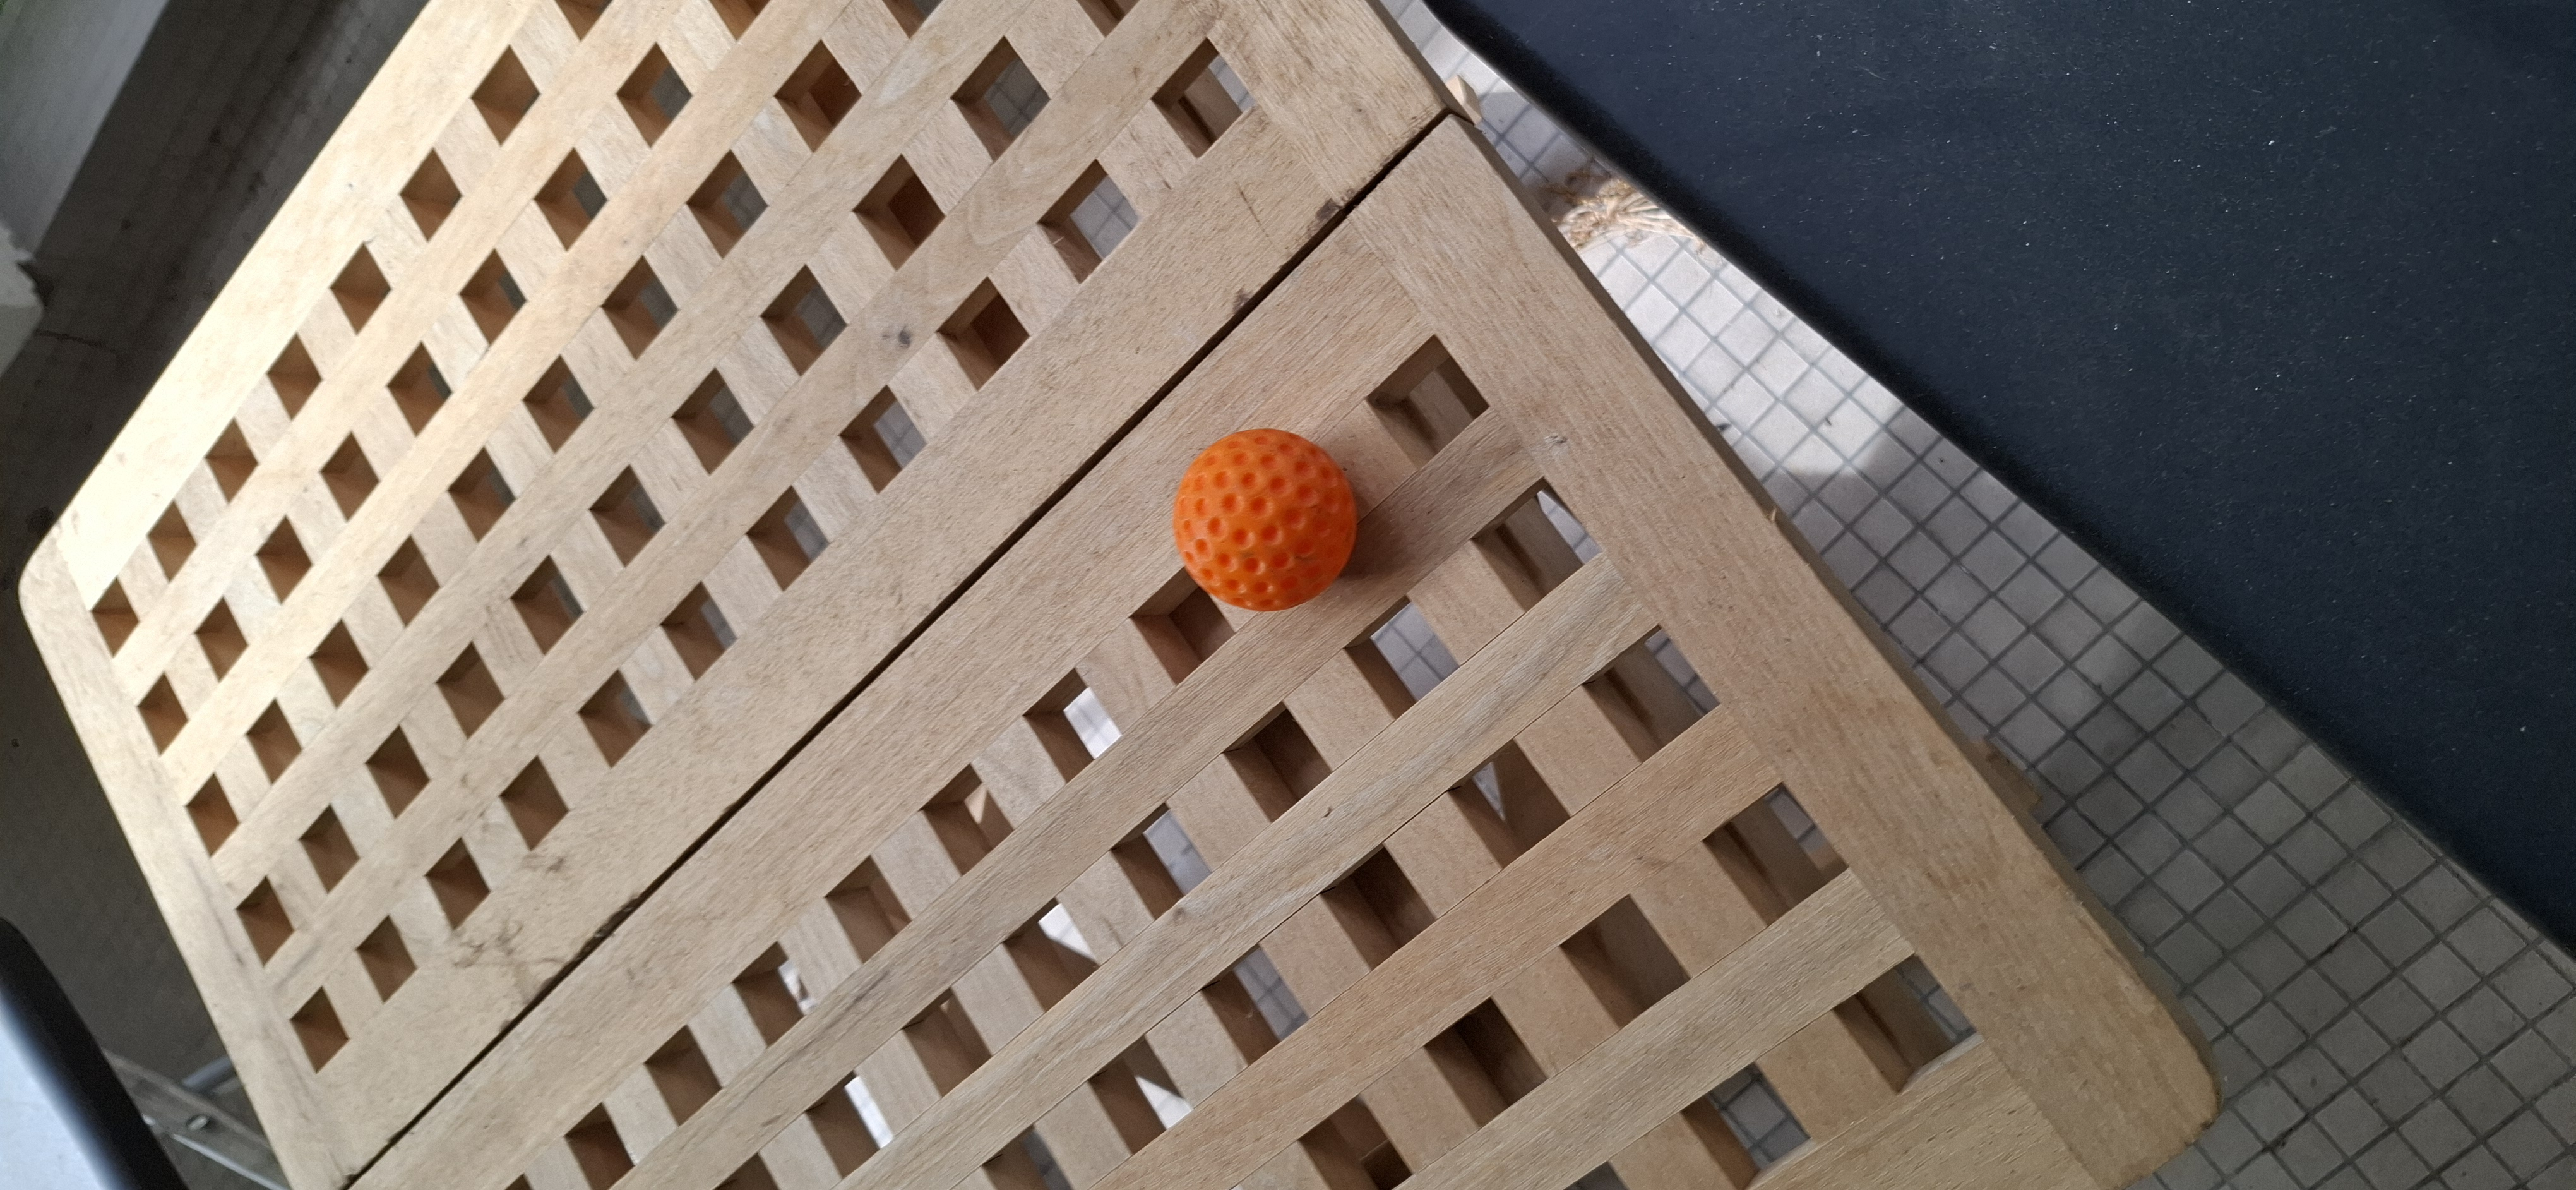ball: (1171, 429, 1357, 613)
